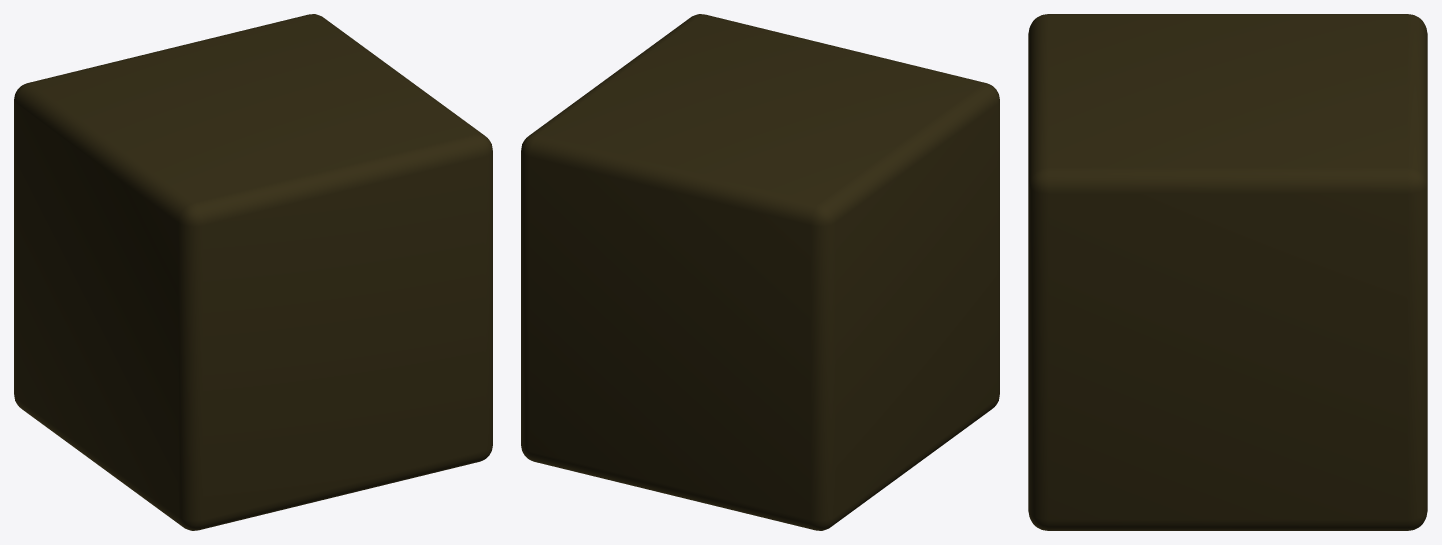
The model's file is BasicBlock.fbx.
3 views of the same model, side by side, from view 1: azimuth 30°, elevation 25°; view 2: azimuth 150°, elevation 25°; view 3: azimuth 270°, elevation 25° (orthographic). The views are drawn at different scales.
Visible parts, largest first — view 1: Cube; view 2: Cube; view 3: Cube.
Boxes of the visible parts, left/top/right/bottom form: Cube: left=14, top=14, right=492, bottom=530; Cube: left=521, top=14, right=999, bottom=530; Cube: left=1028, top=14, right=1427, bottom=530.
Size of the model in its own units: 200 by 200 by 200.
